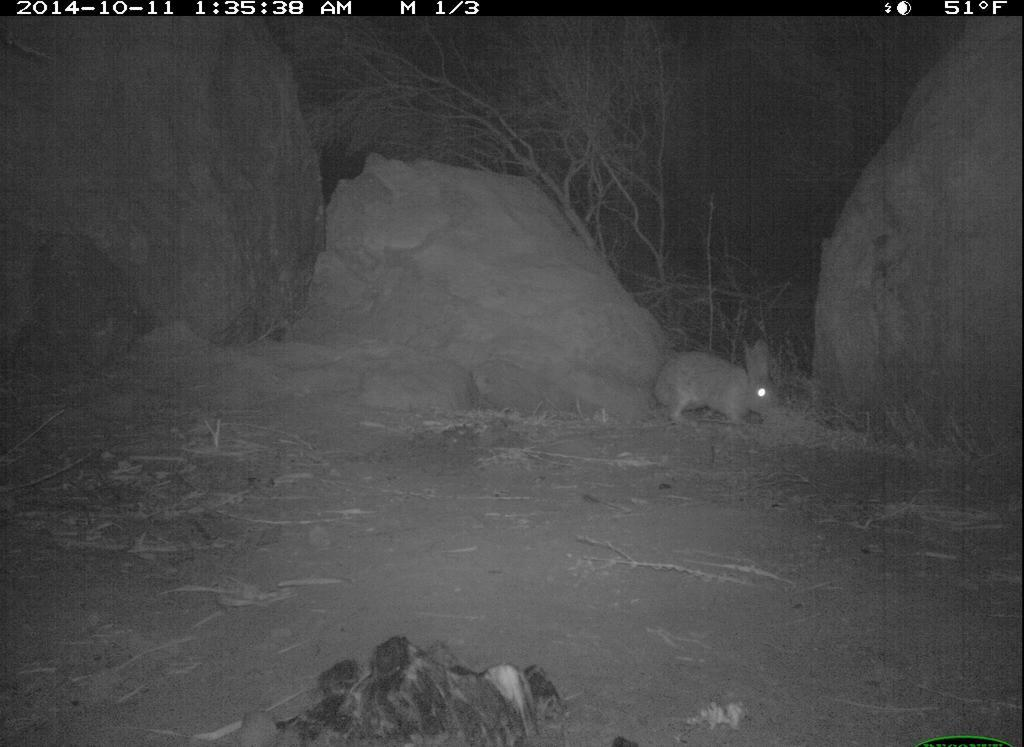rabbit: (647, 332, 786, 447)
